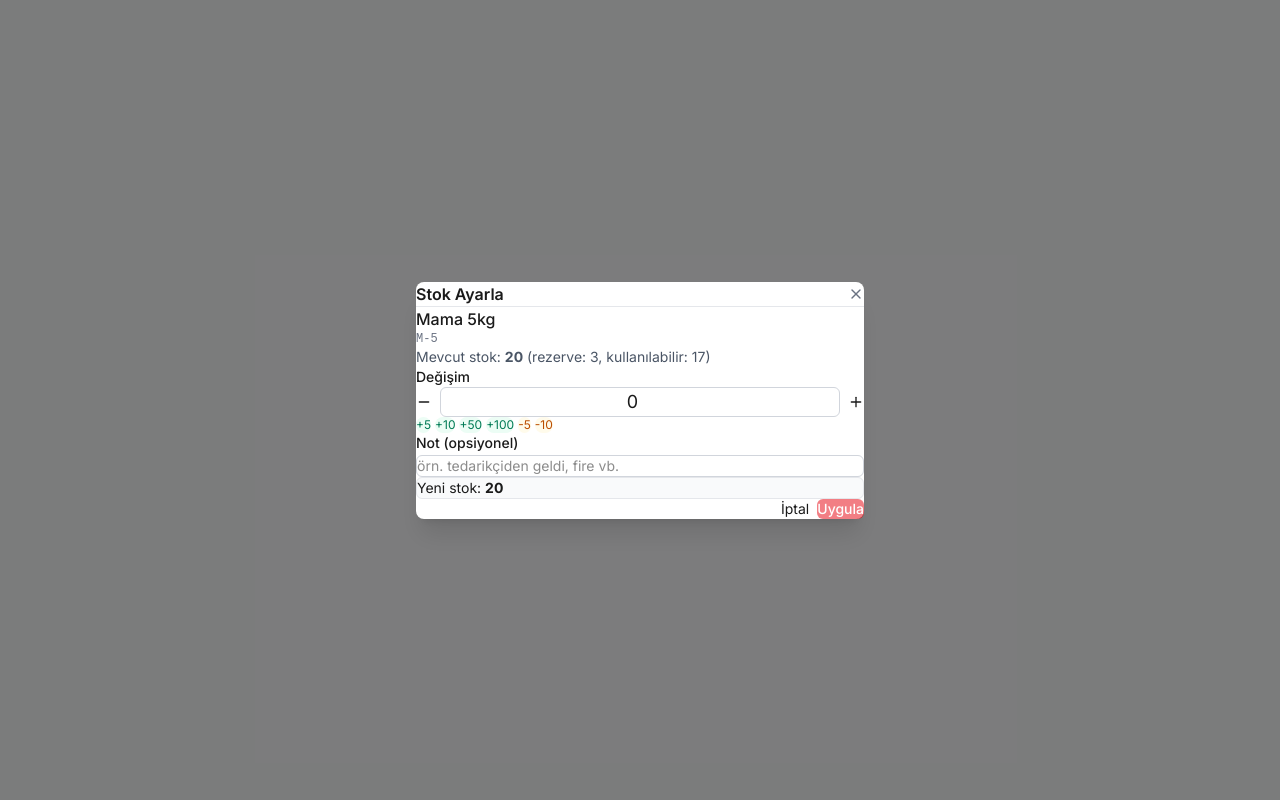
Test: StockAdjustModal › eksiye düşürürse uyarı + buton disable
Click the button "-10".
click(544, 424)  # box [535,416,553,432]
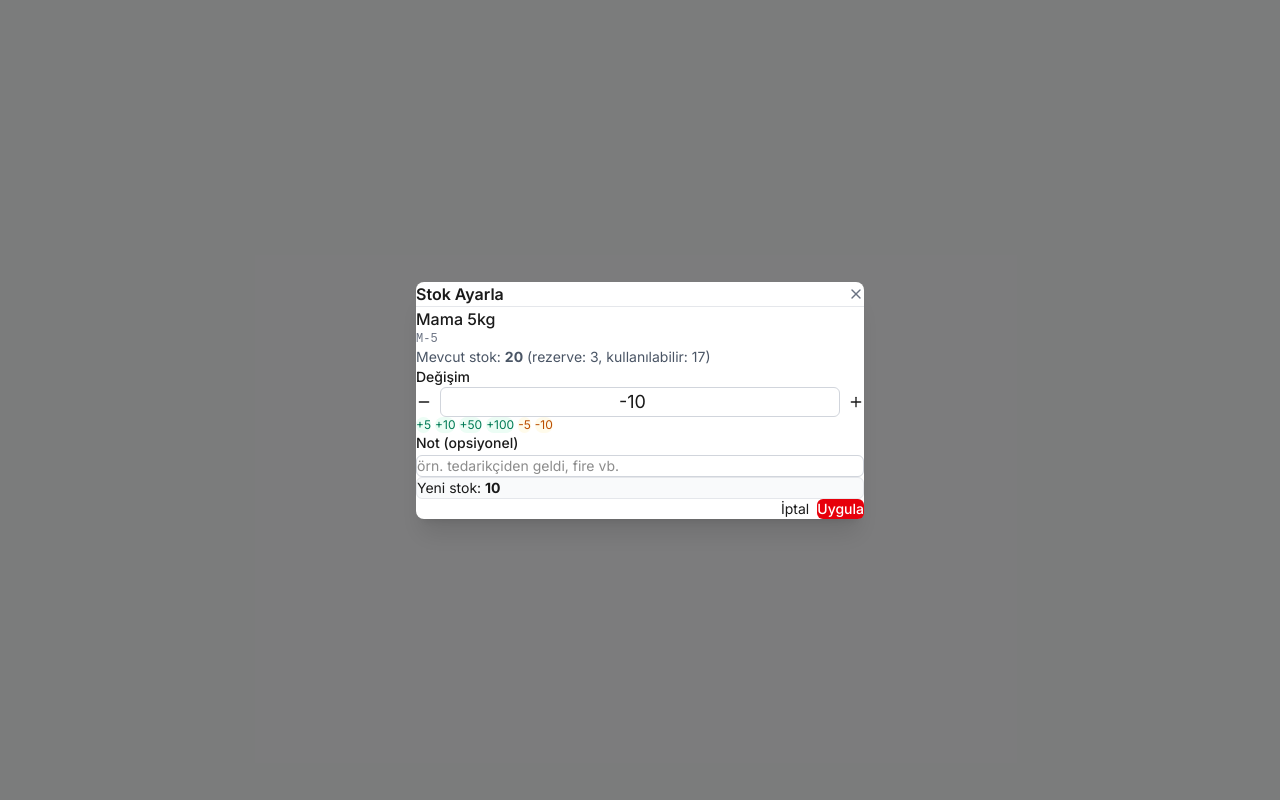
Click the button "-10".
click(544, 424)  # box [535,416,553,432]
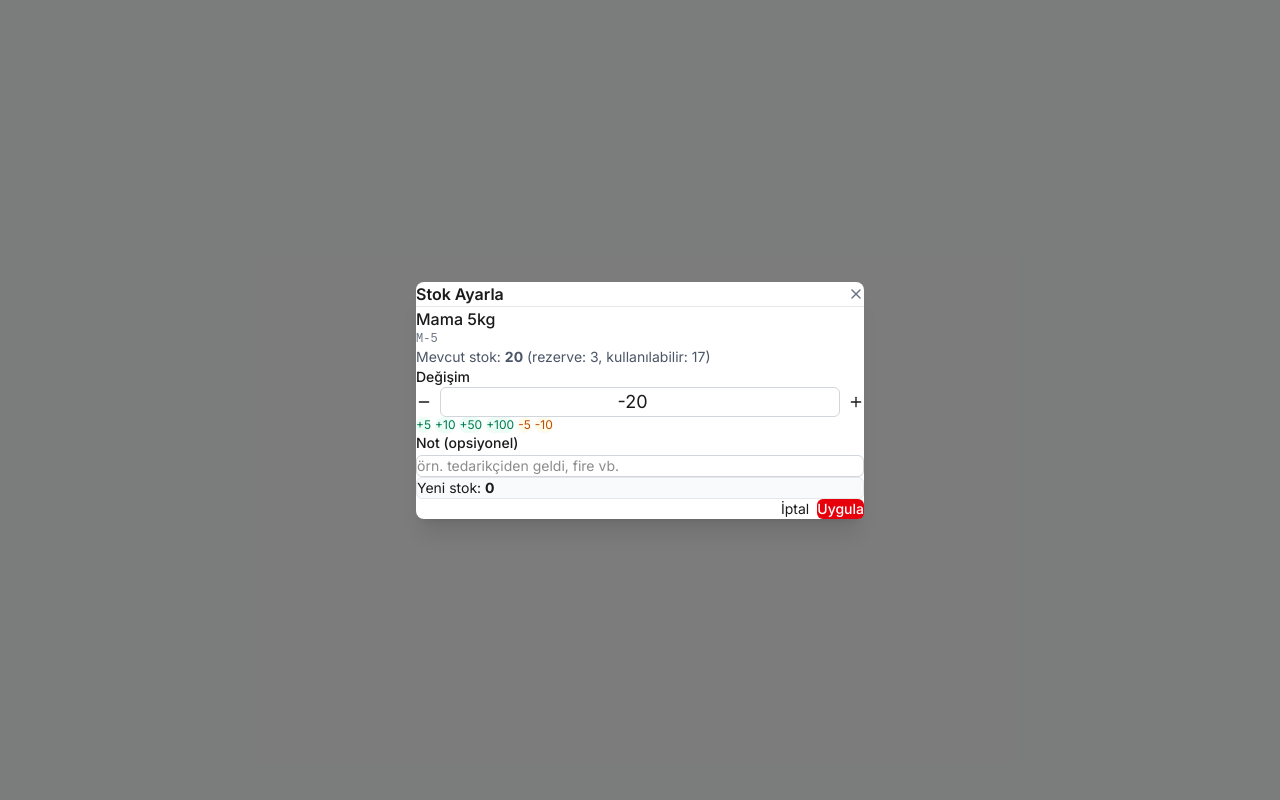
Click the button "-10".
click(544, 424)  # box [535,416,553,432]
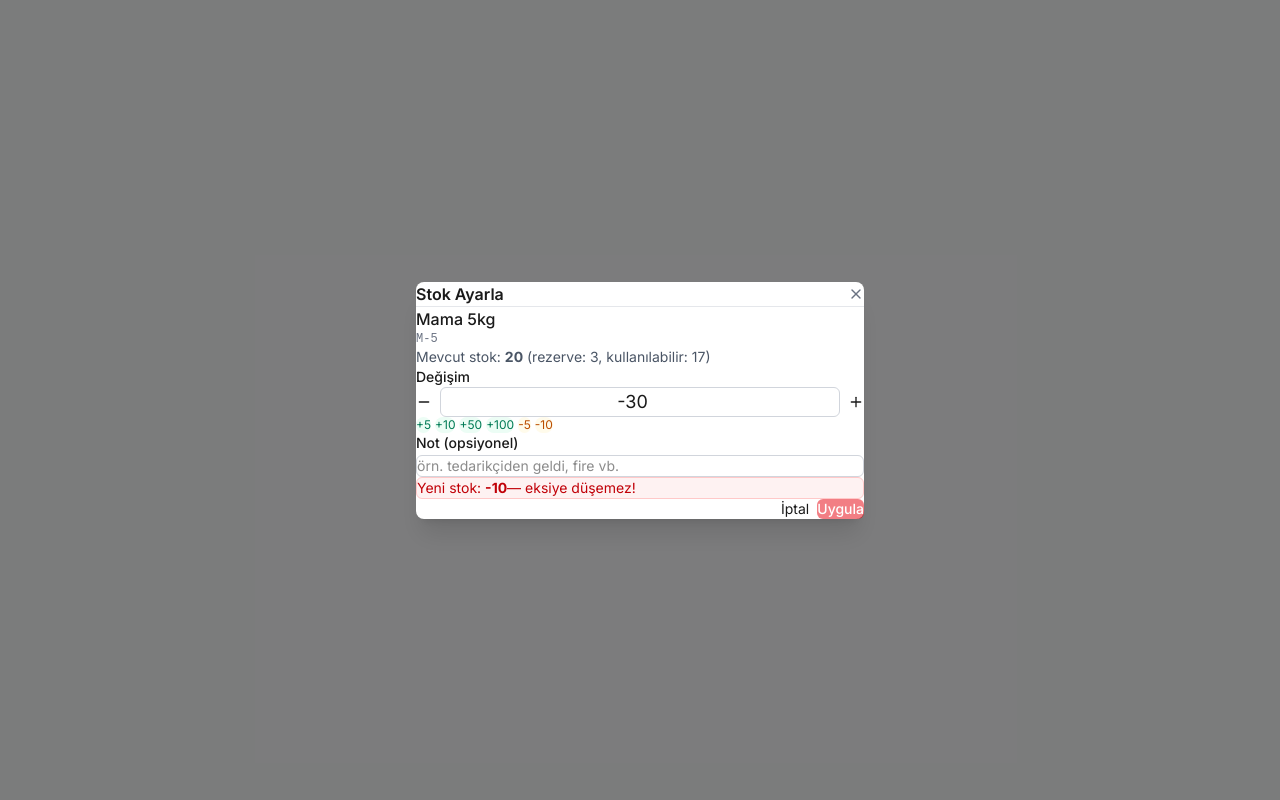
Result: the text "— eksiye düşemez!" is shown at [507,478,636,496]
Result: the button "Uygula" is disabled at [817,498,864,518]
